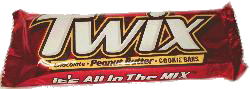grozi_11: (0, 3, 248, 88)
